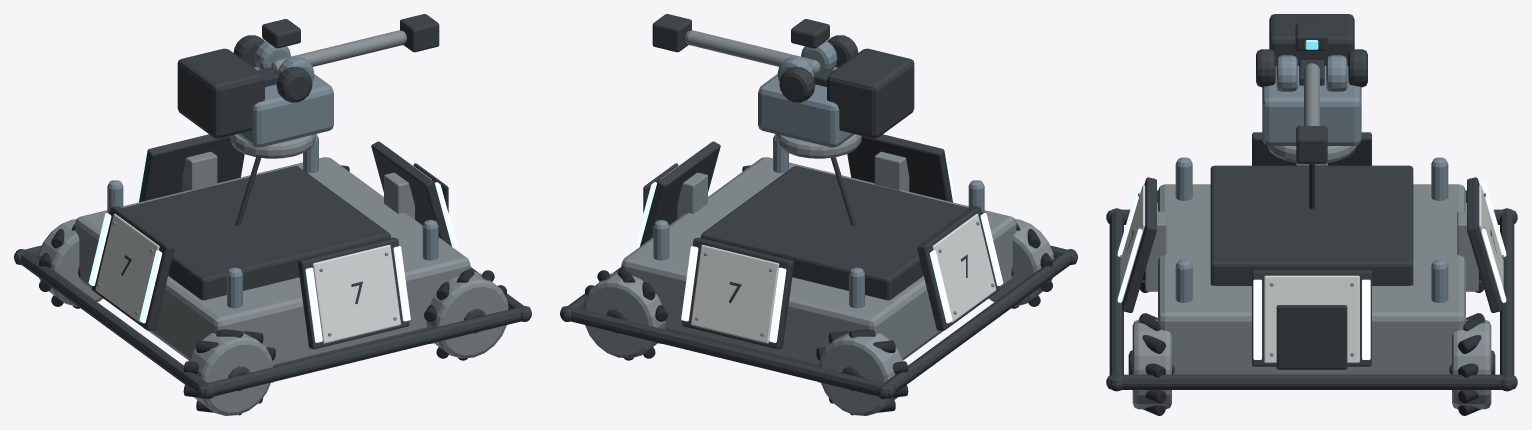
Rendered from robot-7-spec2026.glb.
3 views of the same model, side by side, from view 1: azimuth 30°, elevation 25°; view 2: azimuth 150°, elevation 25°; view 3: azimuth 270°, elevation 25° (orthographic). The views are drawn at different scales.
Parts seen in each view (by area): view 1: Chassis_RobotMatteGraphite, Chassis_RobotMatteAluminum, Chassis_CeramicPanels, Turret_RobotMatteGraphite, GimbalCheeks, MecanumHub, MecanumHub.002, Chassis_TeamGlow, GunPitch_RobotMatteGraphite, MecanumHub.001, MatteAluminumBarrel, YawBearing (+6 smaller); view 2: Chassis_RobotMatteGraphite, Chassis_RobotMatteAluminum, Chassis_CeramicPanels, Turret_RobotMatteGraphite, GimbalCheeks, MecanumHub.001, MecanumHub.003, Chassis_TeamGlow, GunPitch_RobotMatteGraphite, MecanumHub, MatteAluminumBarrel, YawBearing (+6 smaller); view 3: Chassis_RobotMatteGraphite, Chassis_RobotMatteAluminum, Chassis_CeramicPanels, GimbalCheeks, Turret_RobotMatteGraphite, Chassis_TeamGlow, GunPitch_RobotMatteGraphite, MecanumHub.002, MecanumHub.003, GunPitch_TeamPrimaryShell, Wheel_2_TireRubber, Wheel_3_TireRubber (+6 smaller).
Boxes of the visible parts, x1,y1,x2,y2 form: Chassis_RobotMatteGraphite: (14, 134, 531, 399); Chassis_RobotMatteAluminum: (75, 151, 470, 366); Chassis_CeramicPanels: (95, 147, 431, 343); Turret_RobotMatteGraphite: (177, 35, 312, 225); GimbalCheeks: (237, 67, 333, 147); MecanumHub: (188, 332, 272, 415); MecanumHub.002: (426, 271, 508, 358); Chassis_TeamGlow: (88, 145, 457, 342); GunPitch_RobotMatteGraphite: (257, 14, 439, 86); MecanumHub.001: (37, 219, 102, 306); MatteAluminumBarrel: (271, 30, 406, 73); YawBearing: (230, 134, 315, 158); Chassis_RobotMatteGraphite: (560, 134, 1077, 399); Chassis_RobotMatteAluminum: (621, 151, 1016, 366); Chassis_CeramicPanels: (660, 147, 996, 343); Turret_RobotMatteGraphite: (779, 35, 914, 225); GimbalCheeks: (758, 67, 854, 147); MecanumHub.001: (819, 332, 903, 415); MecanumHub.003: (583, 271, 665, 358); Chassis_TeamGlow: (634, 145, 1003, 342); GunPitch_RobotMatteGraphite: (652, 14, 834, 86); MecanumHub: (989, 219, 1054, 306); MatteAluminumBarrel: (685, 30, 820, 73); YawBearing: (776, 134, 861, 158); Chassis_RobotMatteGraphite: (1106, 132, 1517, 391); Chassis_RobotMatteAluminum: (1119, 163, 1504, 374); Chassis_CeramicPanels: (1120, 185, 1503, 362); GimbalCheeks: (1262, 66, 1361, 145); Turret_RobotMatteGraphite: (1256, 14, 1367, 208); Chassis_TeamGlow: (1117, 182, 1506, 359); GunPitch_RobotMatteGraphite: (1295, 23, 1328, 163); MecanumHub.002: (1132, 319, 1171, 409); MecanumHub.003: (1452, 319, 1491, 409); GunPitch_TeamPrimaryShell: (1276, 55, 1347, 91); Wheel_2_TireRubber: (1139, 313, 1165, 415); Wheel_3_TireRubber: (1458, 313, 1484, 415).
Bounding box in the file's own units: 0.58 × 0.5016 × 0.58.
